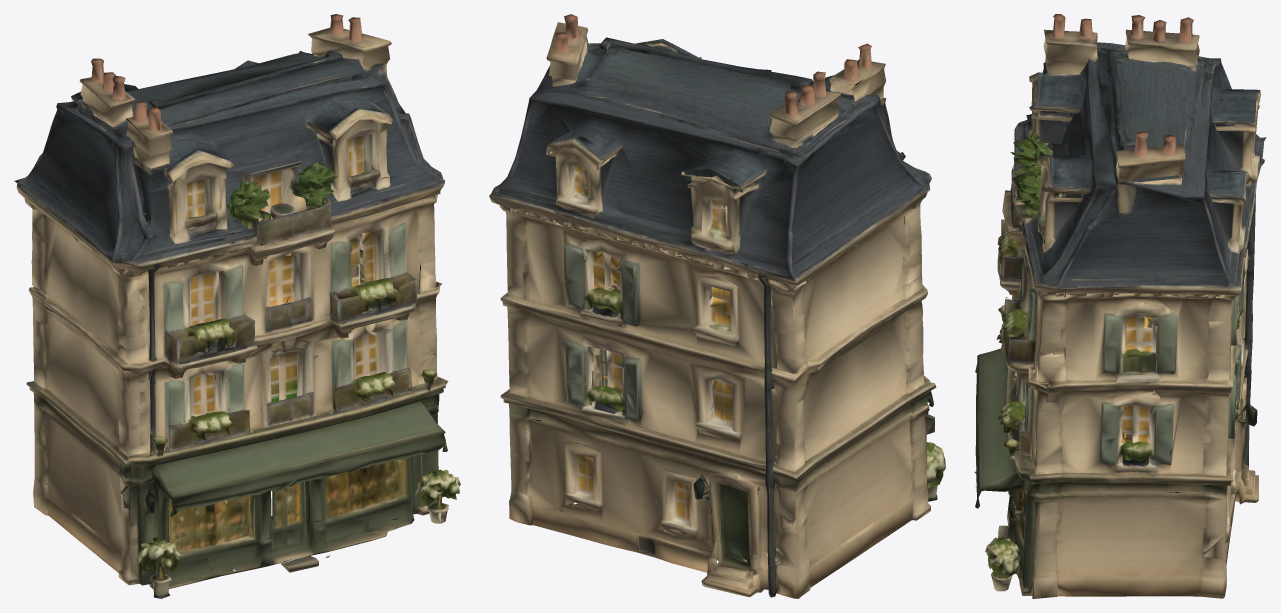
3 views of the same model, side by side, from view 1: azimuth 30°, elevation 25°; view 2: azimuth 150°, elevation 25°; view 3: azimuth 270°, elevation 25° (orthographic). The views are drawn at different scales.
Parts seen in each view (by area): view 1: classic__shop_3__neural_lod; view 2: classic__shop_3__neural_lod; view 3: classic__shop_3__neural_lod.
Boxes of the visible parts, left/top/right/bottom form: classic__shop_3__neural_lod: left=14, top=14, right=460, bottom=598; classic__shop_3__neural_lod: left=489, top=14, right=945, bottom=598; classic__shop_3__neural_lod: left=974, top=14, right=1266, bottom=598.
Size of the model in its own units: 0.7577 by 0.9991 by 0.5689.
Materials: 2 (2 with a texture image).
